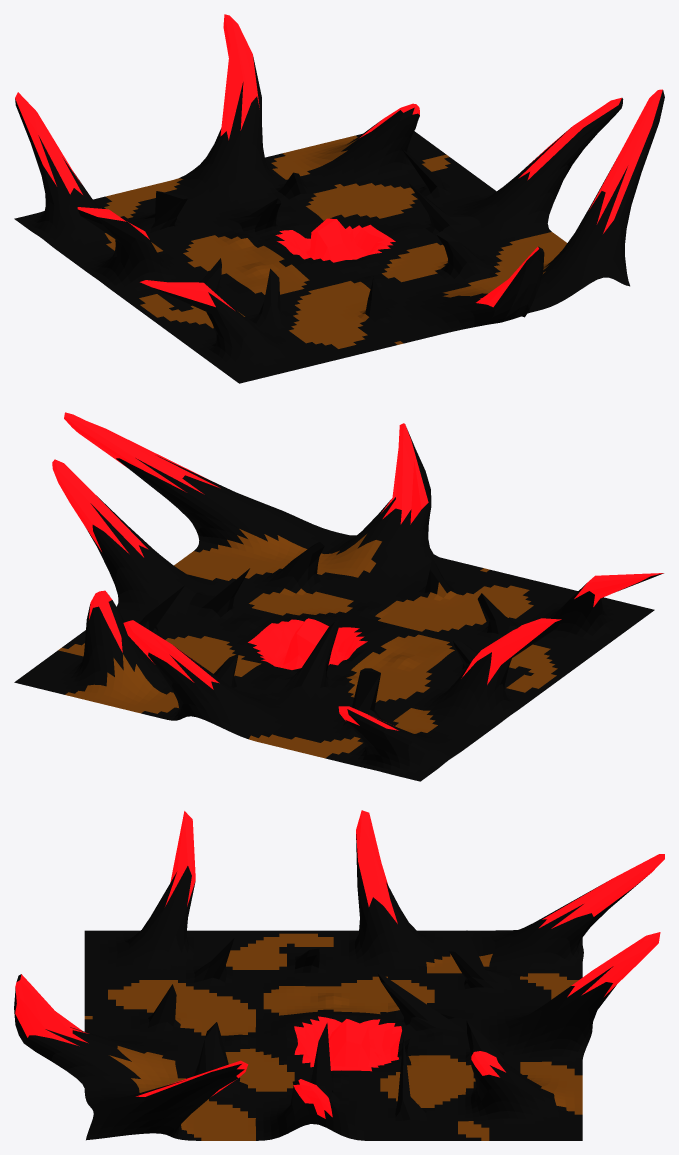
File: WorldFireWorld.glb
3 views of the same model, one above another, from view 1: azimuth 30°, elevation 25°; view 2: azimuth 150°, elevation 25°; view 3: azimuth 270°, elevation 25° (orthographic). The views are drawn at different scales.
Parts seen in each view (by area): view 1: Plane; view 2: Plane; view 3: Plane.
Part boxes in pixels (x1,y1,x2,y2): Plane: [14, 14, 664, 383]; Plane: [14, 412, 663, 781]; Plane: [14, 810, 664, 1140].
Bounding box in the file's own units: 280 × 66.99 × 260.
